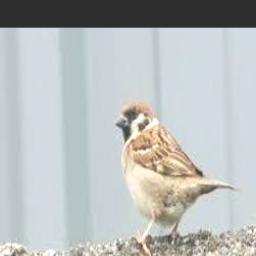Sparrow: (114, 102, 239, 254)
